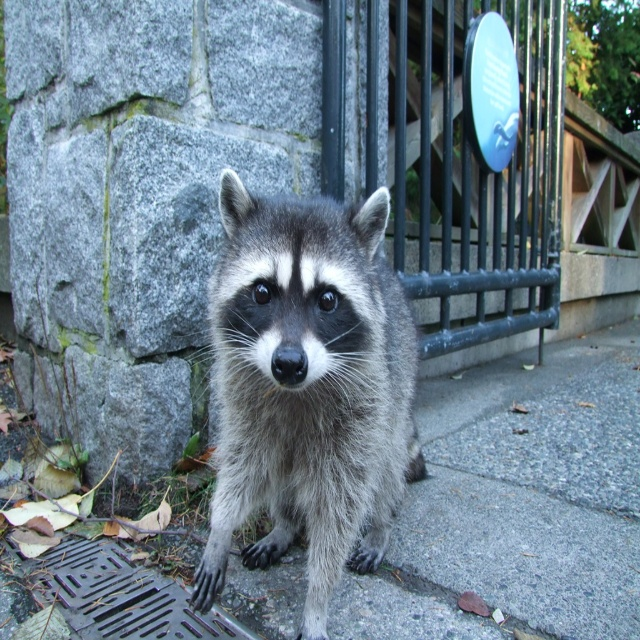Raccoon: (189, 168, 430, 639)
